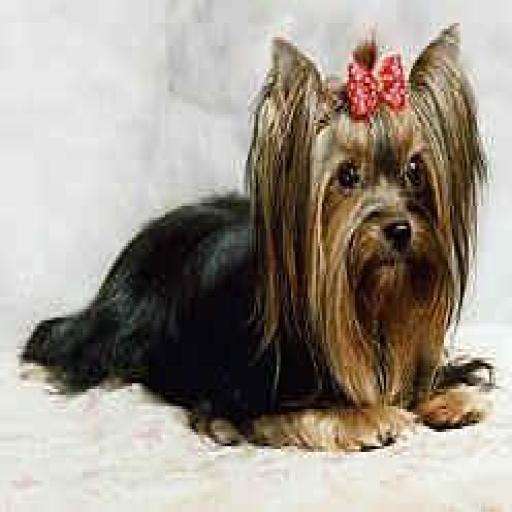dog_face: (265, 37, 472, 303)
